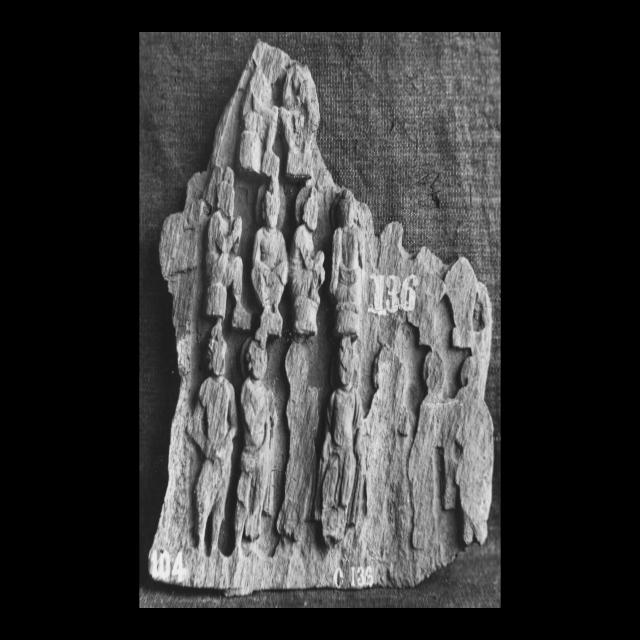buddha-sitting: (205, 167, 250, 329), (252, 191, 288, 349), (289, 186, 325, 338), (330, 189, 365, 338)
